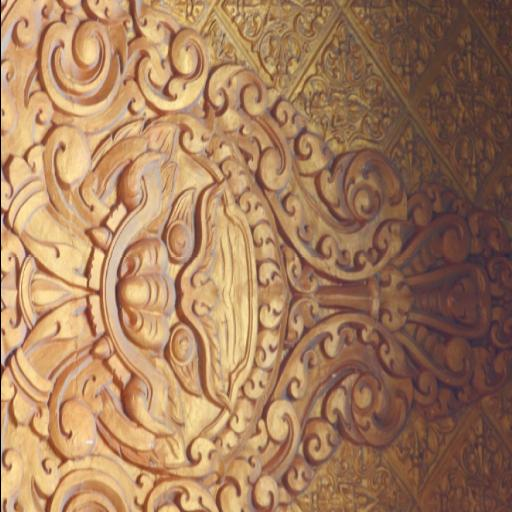hoa: (426, 38, 512, 188), (311, 51, 405, 150), (227, 0, 328, 79), (430, 431, 512, 512), (310, 449, 412, 512), (364, 0, 460, 66)
lua: (204, 315, 412, 512), (210, 68, 400, 278), (1, 369, 207, 512), (0, 0, 201, 135)
